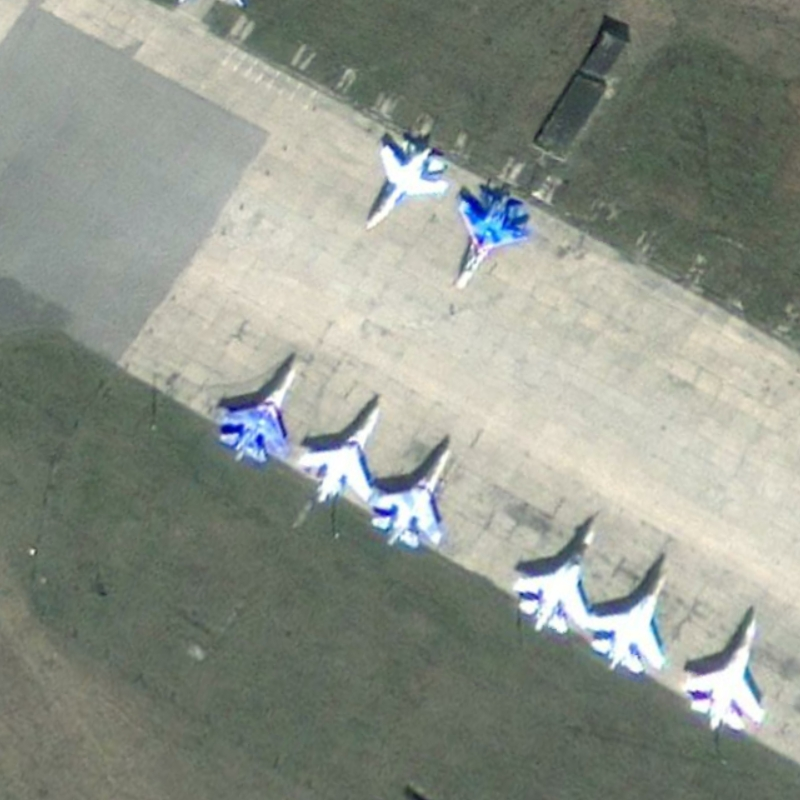A1: (684, 616, 769, 732), (511, 528, 596, 636), (453, 188, 538, 292), (586, 570, 668, 676), (297, 404, 382, 505), (369, 448, 452, 551), (363, 138, 451, 232), (216, 365, 297, 465)
